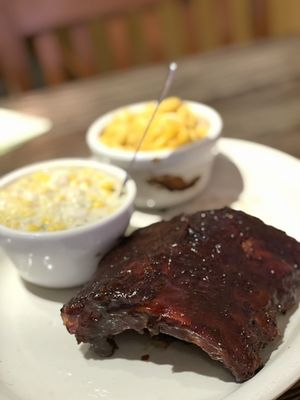salad: (135, 61, 178, 153)
soup: (61, 208, 300, 383)
sushi: (0, 157, 137, 289), (85, 95, 226, 212)
